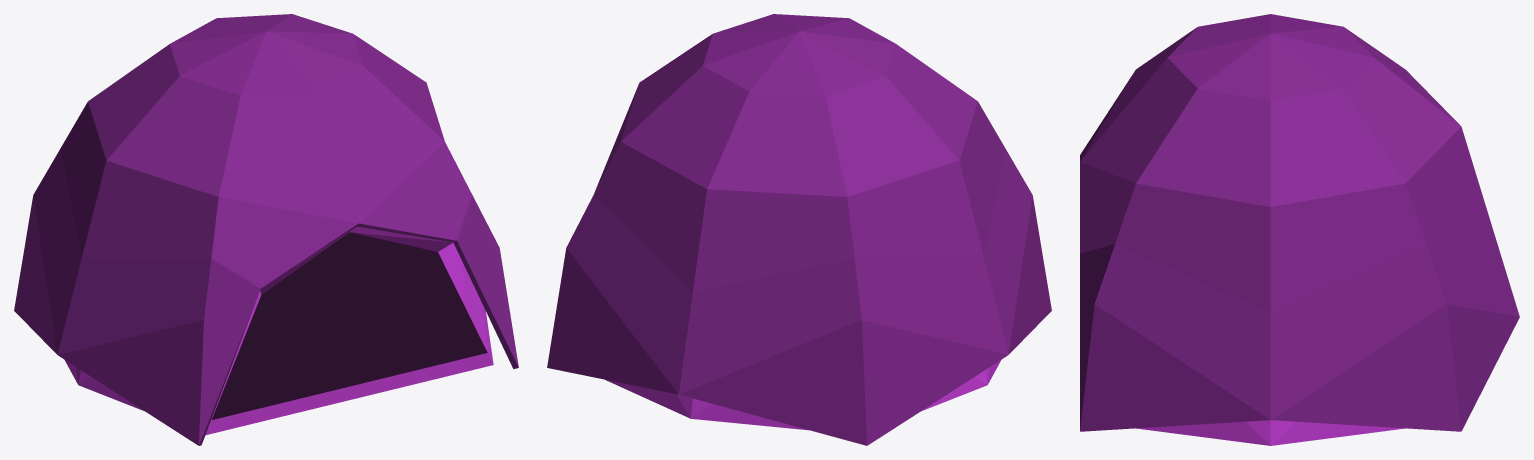
The model's file is Tent_2_Purple.fbx.
The picture shows the model from 3 angles, left to right: view 1: azimuth 30°, elevation 25°; view 2: azimuth 150°, elevation 25°; view 3: azimuth 270°, elevation 25°; orthographic projection. The views are drawn at different scales.
Parts seen in each view (by area): view 1: Tent_2_Purple; view 2: Tent_2_Purple; view 3: Tent_2_Purple.
Boxes of the visible parts, box(x1,y1,x2,y2) form: Tent_2_Purple: box(14, 14, 518, 445); Tent_2_Purple: box(547, 14, 1051, 445); Tent_2_Purple: box(1080, 14, 1519, 445).
Bounding box in the file's own units: 259 × 183 × 228.
